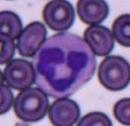N: (33, 32, 96, 96)
